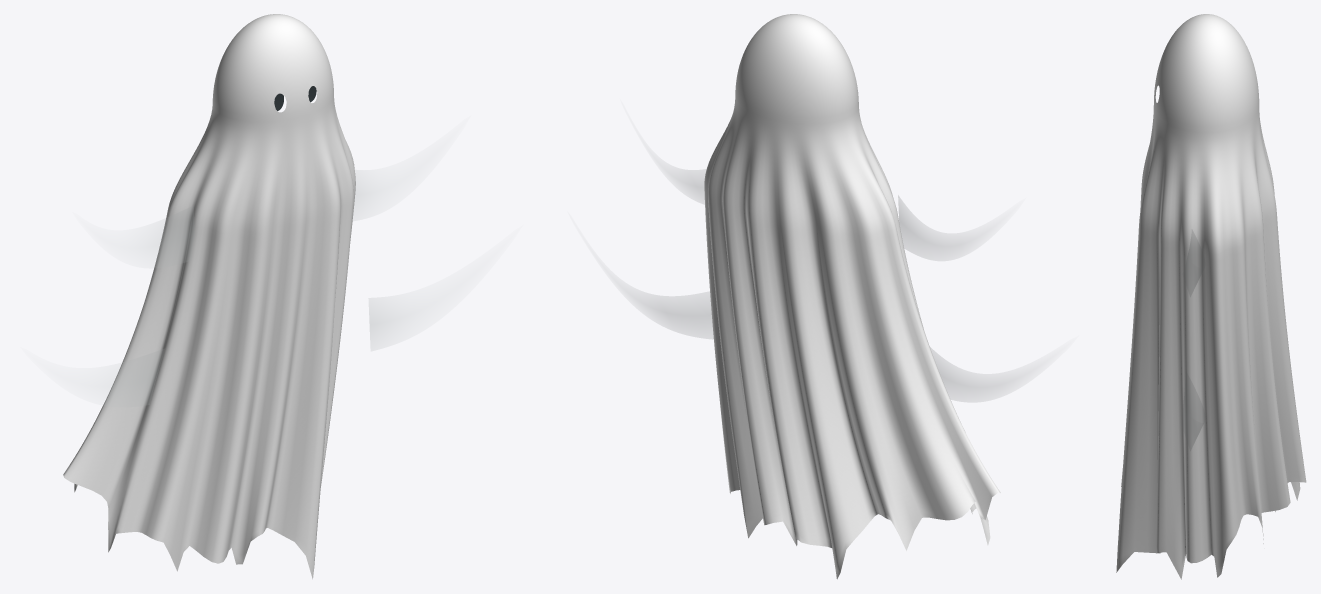
File: sprout.glb
The picture shows the model from 3 angles, left to right: view 1: azimuth 30°, elevation 25°; view 2: azimuth 150°, elevation 25°; view 3: azimuth 270°, elevation 25°; orthographic projection. The views are drawn at different scales.
Parts seen in each view (by area): view 1: Cinematic_Sprout_Shroud; view 2: Cinematic_Sprout_Shroud; view 3: Cinematic_Sprout_Shroud.
Part boxes in pixels (left/top/right/bottom): Cinematic_Sprout_Shroud: left=63, top=14, right=465, bottom=579; Cinematic_Sprout_Shroud: left=613, top=14, right=1020, bottom=579; Cinematic_Sprout_Shroud: left=1116, top=14, right=1306, bottom=579.
Size of the model in its own units: 2.04 by 2 by 0.6201.
Materials: 3 (1 with a texture image).
